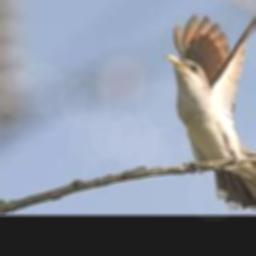Cuckoo: (163, 0, 256, 208)
